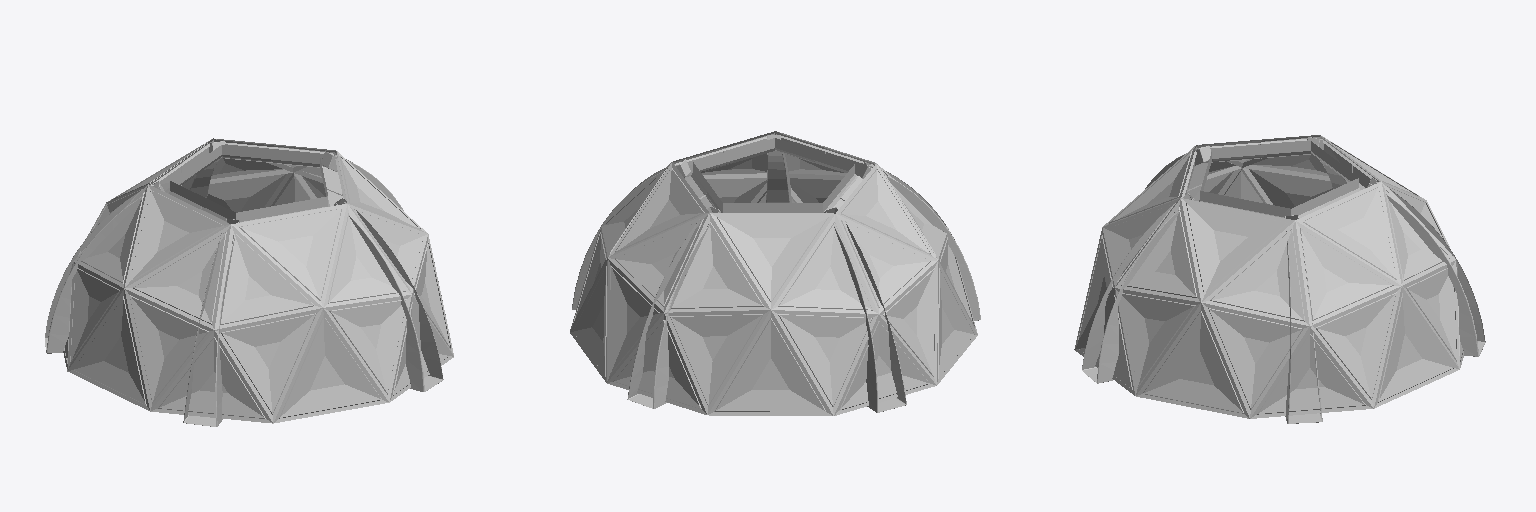
Rendered from HoloTable.obj.
3 views of the same model, side by side, from view 1: azimuth 30°, elevation 25°; view 2: azimuth 150°, elevation 25°; view 3: azimuth 270°, elevation 25° (orthographic).
Visible parts, largest first — view 1: Ceiling3, Pillars, CeilingCap, Ceiling2; view 2: Ceiling3, Pillars, CeilingCap, Ceiling2; view 3: Ceiling3, Pillars, CeilingCap, Ceiling2.
Part boxes in pixels (x1,y1,x2,y2): Ceiling3: (63, 138, 453, 423); Pillars: (45, 141, 443, 426); CeilingCap: (150, 140, 346, 222); Ceiling2: (64, 142, 450, 418); Ceiling3: (570, 131, 977, 415); Pillars: (572, 135, 980, 412); CeilingCap: (673, 132, 874, 212); Ceiling2: (573, 136, 974, 411); Ceiling3: (1074, 135, 1463, 418); Pillars: (1082, 137, 1485, 423); CeilingCap: (1181, 136, 1379, 218); Ceiling2: (1078, 139, 1463, 414).
Size of the model in its own units: 976 by 423 by 973.